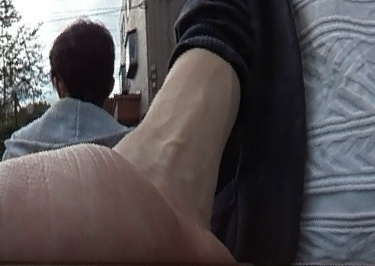person: (4, 29, 130, 151)
